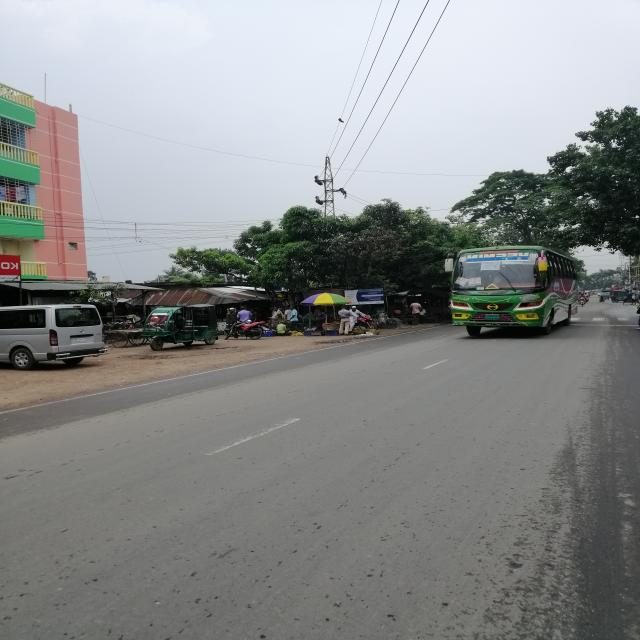Bus: (443, 228, 589, 346)
